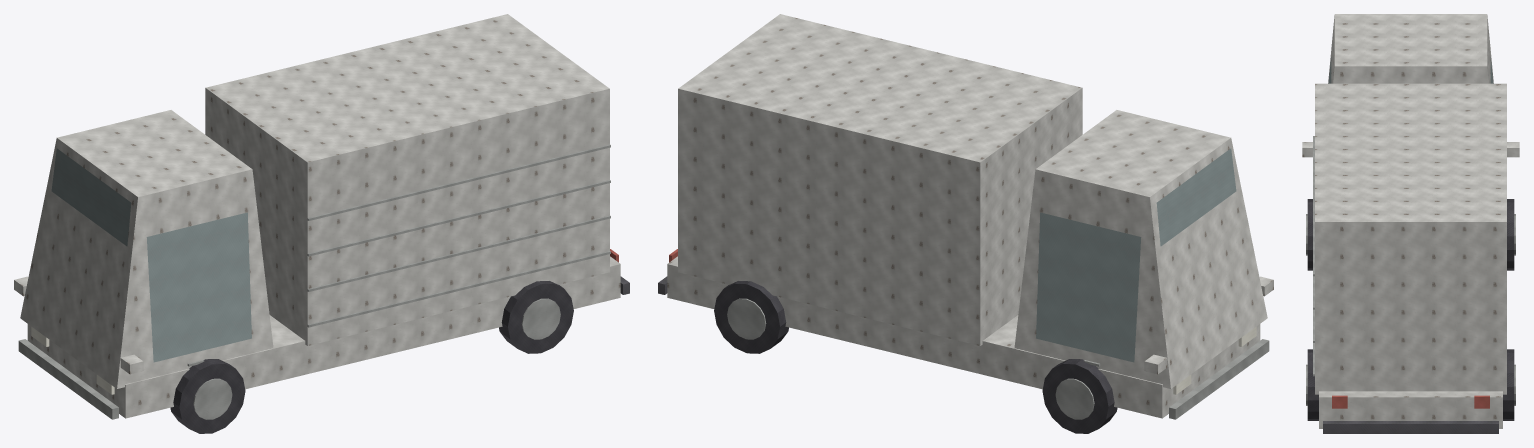
File: vehicle_delivery.glb
3 views of the same model, side by side, from view 1: azimuth 30°, elevation 25°; view 2: azimuth 150°, elevation 25°; view 3: azimuth 270°, elevation 25° (orthographic). The views are drawn at different scales.
Visible parts, largest first — view 1: vehicle_delivery; view 2: vehicle_delivery; view 3: vehicle_delivery.
Part boxes in pixels (<box>): vehicle_delivery: <box>14,14,629,433</box>; vehicle_delivery: <box>658,14,1273,433</box>; vehicle_delivery: <box>1302,14,1519,433</box>.
Bounding box in the file's own units: 6.11 × 2.75 × 2.37.
7 materials, 7 textured.
